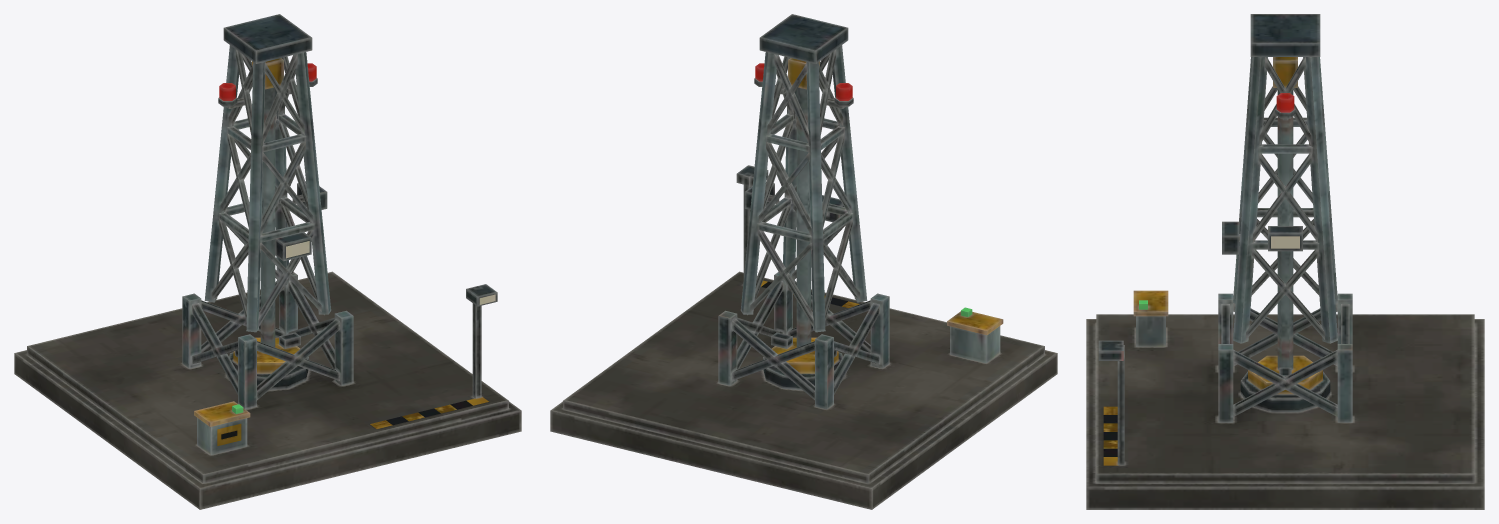
Rendered from deep_drill.glb.
3 views of the same model, side by side, from view 1: azimuth 30°, elevation 25°; view 2: azimuth 150°, elevation 25°; view 3: azimuth 270°, elevation 25° (orthographic). The views are drawn at different scales.
Visible parts, largest first — view 1: te_deep_drill, move_drill; view 2: te_deep_drill, move_drill; view 3: te_deep_drill, move_drill.
Boxes of the visible parts, x1,y1,x2,y2 form: te_deep_drill: (14,14,521,509); move_drill: (233,87,300,373); te_deep_drill: (550,14,1057,509); move_drill: (771,87,838,373); te_deep_drill: (1086,14,1484,509); move_drill: (1248,89,1322,394).
Size of the model in its own units: 0.8 by 0.88 by 0.8.
1 material, 1 textured.
